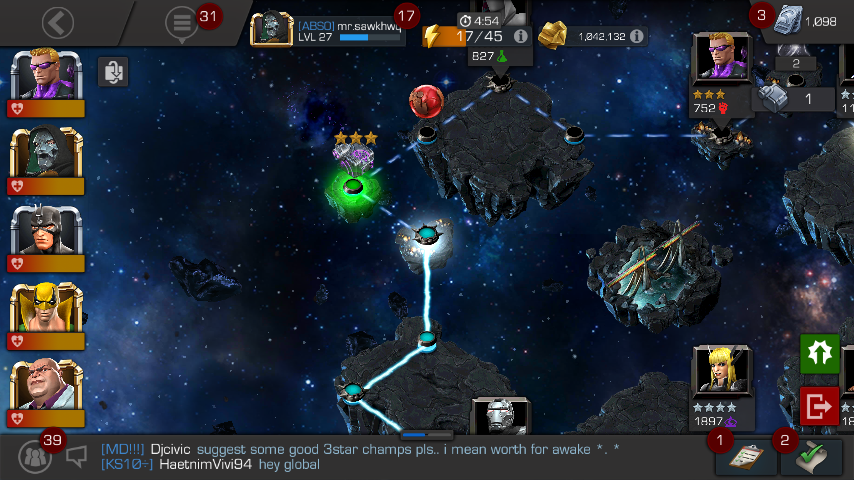green: (343, 179, 363, 195)
